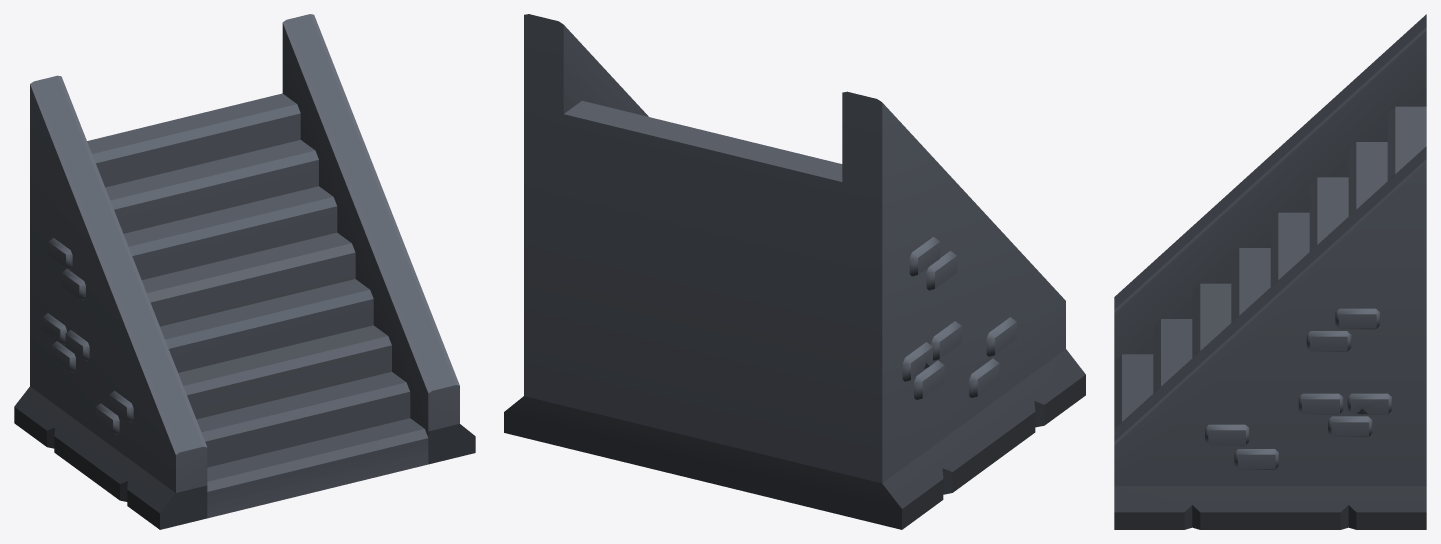
The model's file is stairs.glb.
The picture shows the model from 3 angles, left to right: view 1: azimuth 30°, elevation 25°; view 2: azimuth 150°, elevation 25°; view 3: azimuth 270°, elevation 25°; orthographic projection. The views are drawn at different scales.
Parts seen in each view (by area): view 1: stairs; view 2: stairs; view 3: stairs.
Part boxes in pixels (bbox=[...]): stairs: bbox=[14, 14, 475, 529]; stairs: bbox=[504, 14, 1085, 529]; stairs: bbox=[1114, 14, 1426, 529].
Bounding box in the file's own units: 5 × 5.1 × 4.
Materials: 1 (1 with a texture image).
